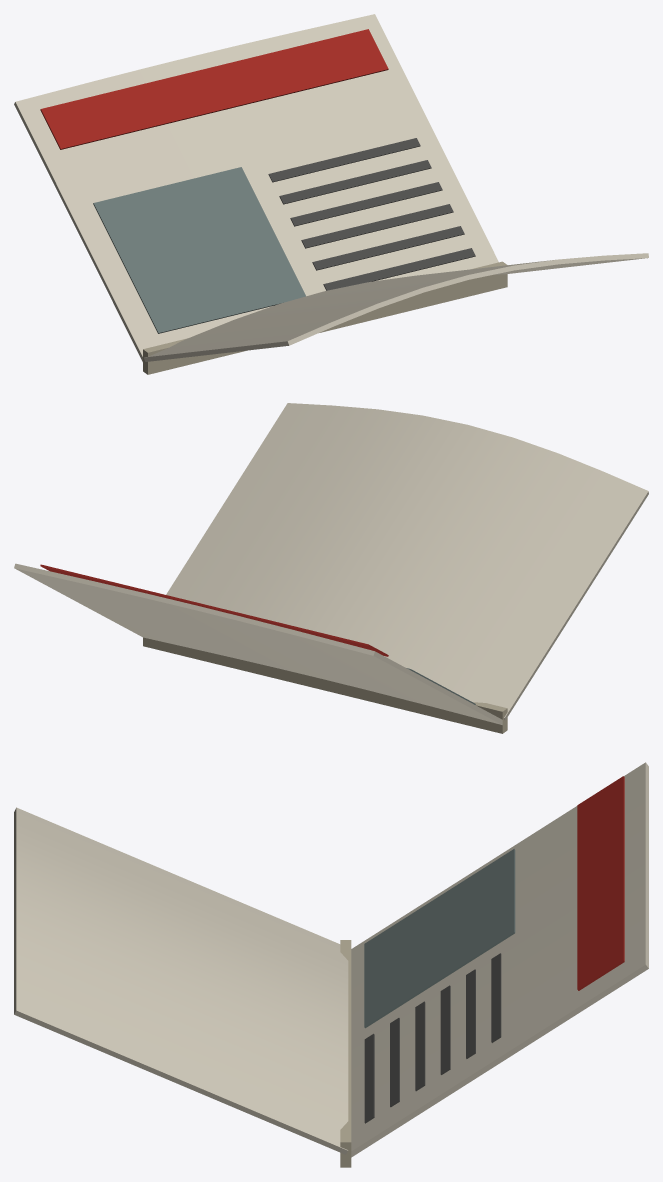
Rendered from to_bao_bay.glb.
3 renders of one model, top to bottom at view 1: azimuth 30°, elevation 25°; view 2: azimuth 150°, elevation 25°; view 3: azimuth 270°, elevation 25°, orthographic. The views are drawn at different scales.
Visible parts, largest first — view 1: to_bao__bay; view 2: to_bao__bay; view 3: to_bao__bay.
Part boxes in pixels (x1=…): to_bao__bay: x1=14, y1=14, x2=648, y2=374; to_bao__bay: x1=14, y1=403, x2=648, y2=733; to_bao__bay: x1=14, y1=762, x2=648, y2=1167.
Bounding box in the file's own units: 0.3413 × 0.1611 × 0.4509.
